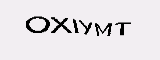І: (71, 14, 80, 36)
